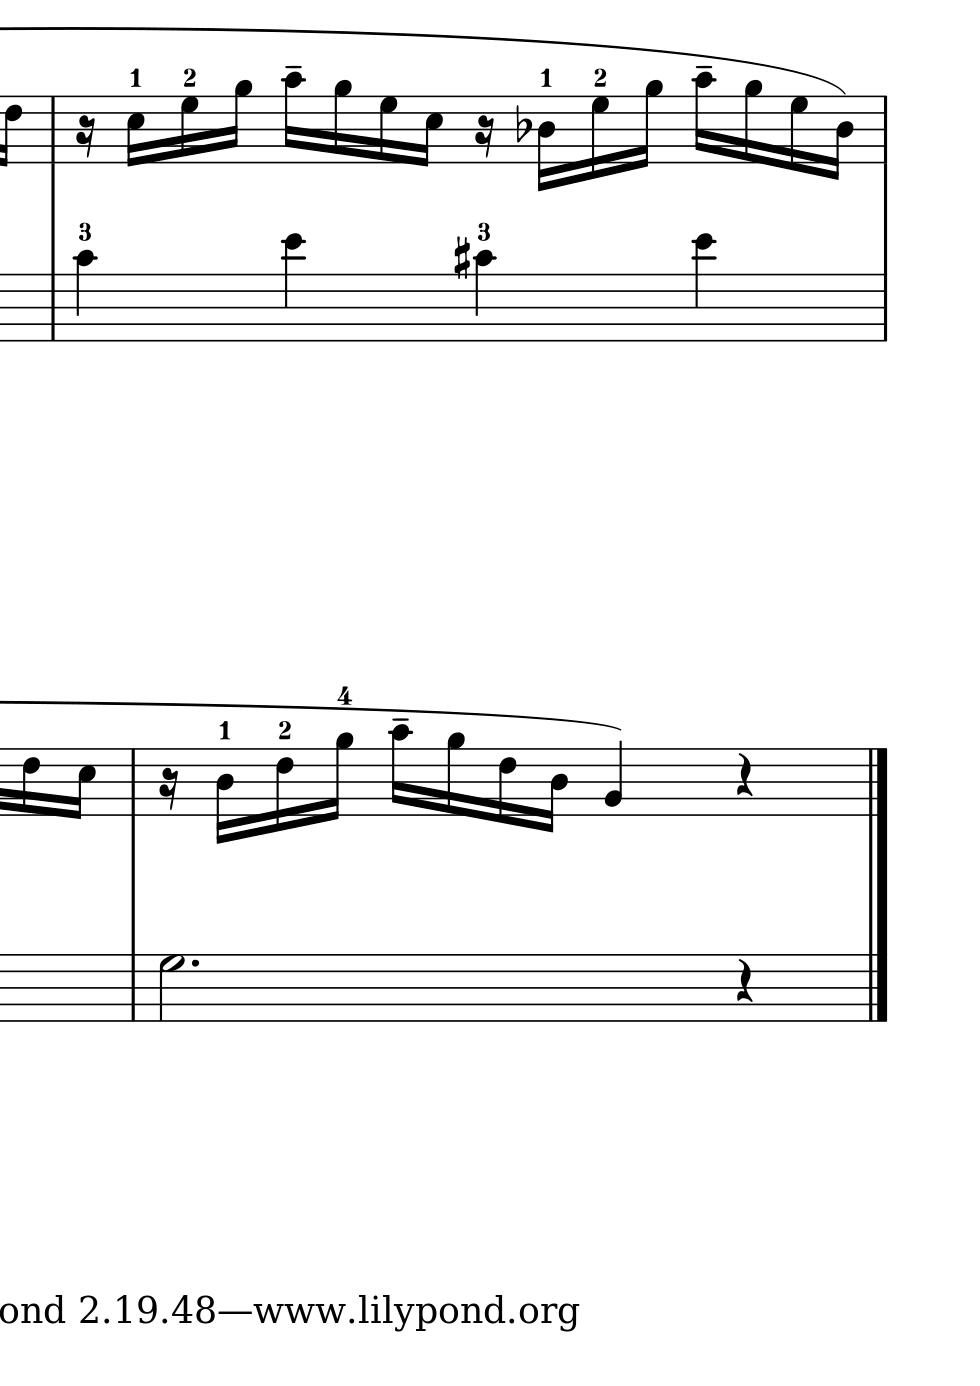1: (537, 67, 553, 89), (218, 717, 231, 742), (129, 67, 143, 89)
16_10: (387, 721, 413, 817), (692, 69, 716, 164), (281, 71, 305, 165)
16_4: (541, 745, 568, 835), (828, 94, 854, 181), (213, 747, 234, 845), (535, 94, 555, 193)
16_5: (67, 747, 97, 821), (416, 94, 444, 168), (123, 94, 145, 169)
16_6: (273, 745, 294, 834), (2, 93, 24, 166), (497, 745, 517, 828), (20, 745, 41, 818)
16_7: (588, 93, 610, 183), (787, 92, 808, 177), (177, 93, 199, 166), (377, 93, 397, 166)
16_9: (323, 730, 353, 824), (634, 78, 663, 170), (225, 78, 252, 166), (331, 77, 351, 165), (742, 77, 762, 166), (444, 730, 463, 818)
2: (275, 719, 291, 743), (591, 66, 608, 88), (180, 68, 197, 88)
2_7: (157, 952, 185, 1023)
3: (476, 221, 491, 242), (77, 221, 91, 242)
4: (335, 685, 352, 707)
4_10: (72, 250, 97, 344), (473, 249, 496, 343)
4_12: (279, 232, 307, 345), (690, 233, 717, 345)
4_2: (602, 739, 624, 817)
Final_barline: (862, 747, 891, 815), (862, 953, 890, 1022)
Flat: (513, 103, 531, 144)
Rests16: (157, 766, 179, 812), (473, 115, 495, 160), (74, 115, 97, 159)
Rests4: (733, 957, 755, 1005), (733, 751, 755, 799)
Sharp: (452, 235, 471, 282)
Single_barline: (45, 274, 62, 341), (125, 954, 142, 1021), (43, 97, 60, 162), (876, 275, 892, 341), (125, 749, 141, 815), (878, 95, 892, 164)
dot: (188, 957, 202, 970)
